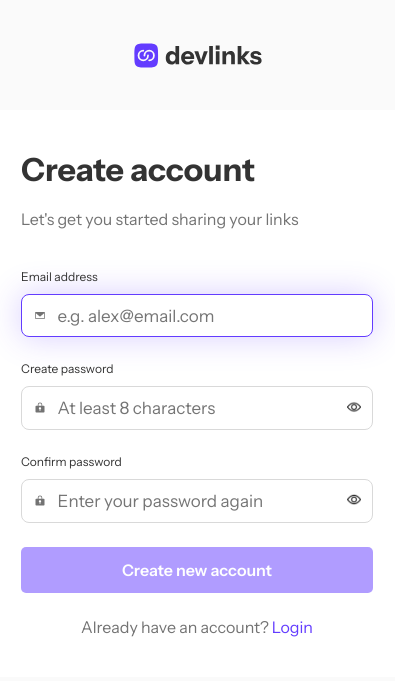
it: <Register /> › displays error messages if password is less than 8 characters
The image size is (395, 681).
Type "1234567" into the password field with placeholder "At least 8 characters".
click(202, 408); type("1234567")  # box [58,398,347,418]
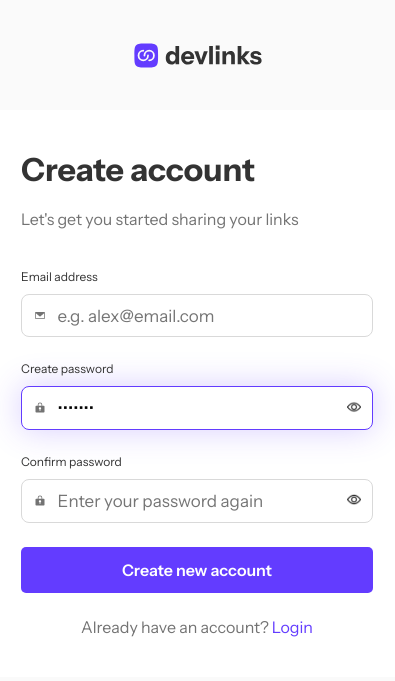
Click the button with test id "register-button".
click(197, 570)  # box [21,546,373,592]
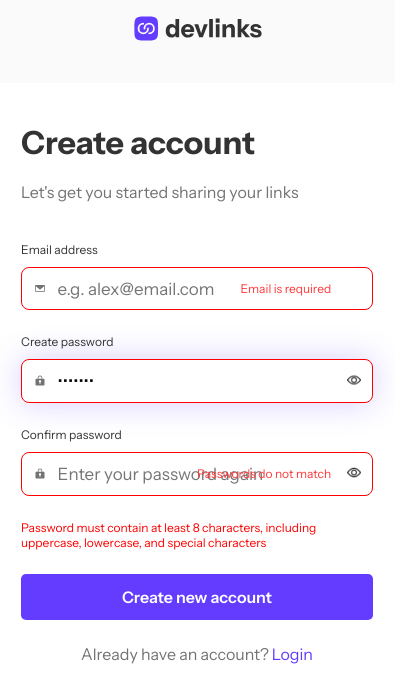
Expected: the text "Password must contain at least 8 characters, including uppercase, lowercase, and special characters" is shown, [21,520,316,550]
